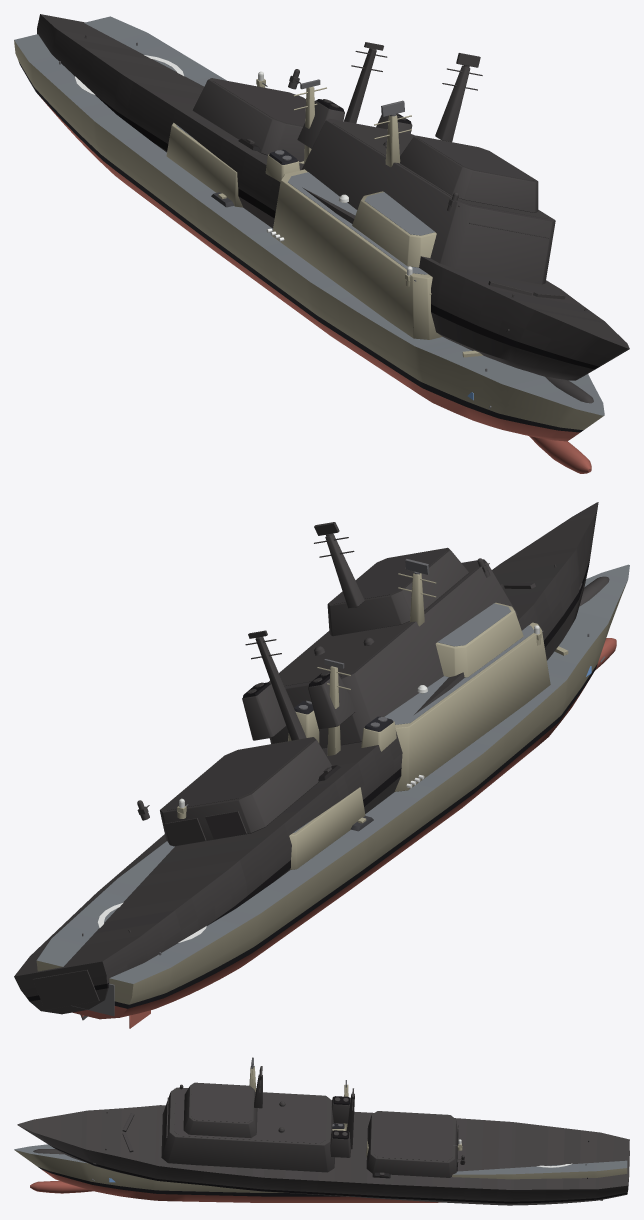
Rendered from landingShip__johan_de_witt.glb.
3 renders of one model, top to bottom at view 1: azimuth 30°, elevation 25°; view 2: azimuth 150°, elevation 25°; view 3: azimuth 270°, elevation 25°, orthographic. The views are drawn at different scales.
Visible parts, largest first — view 1: Wreck, Hull_Mesh; view 2: Wreck, Hull_Mesh; view 3: Wreck, Hull_Mesh.
Boxes of the visible parts, x1,y1,x2,y2 form: Wreck: [37, 14, 629, 403]; Hull_Mesh: [14, 16, 604, 473]; Wreck: [14, 502, 609, 1020]; Hull_Mesh: [36, 564, 629, 1028]; Wreck: [17, 1066, 629, 1205]; Hull_Mesh: [14, 1066, 627, 1202].
Size of what is drawn, in the model's own units: 33.28 by 49.13 by 184.
